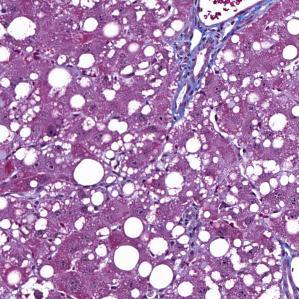fibrosis: (166, 19, 237, 85)
